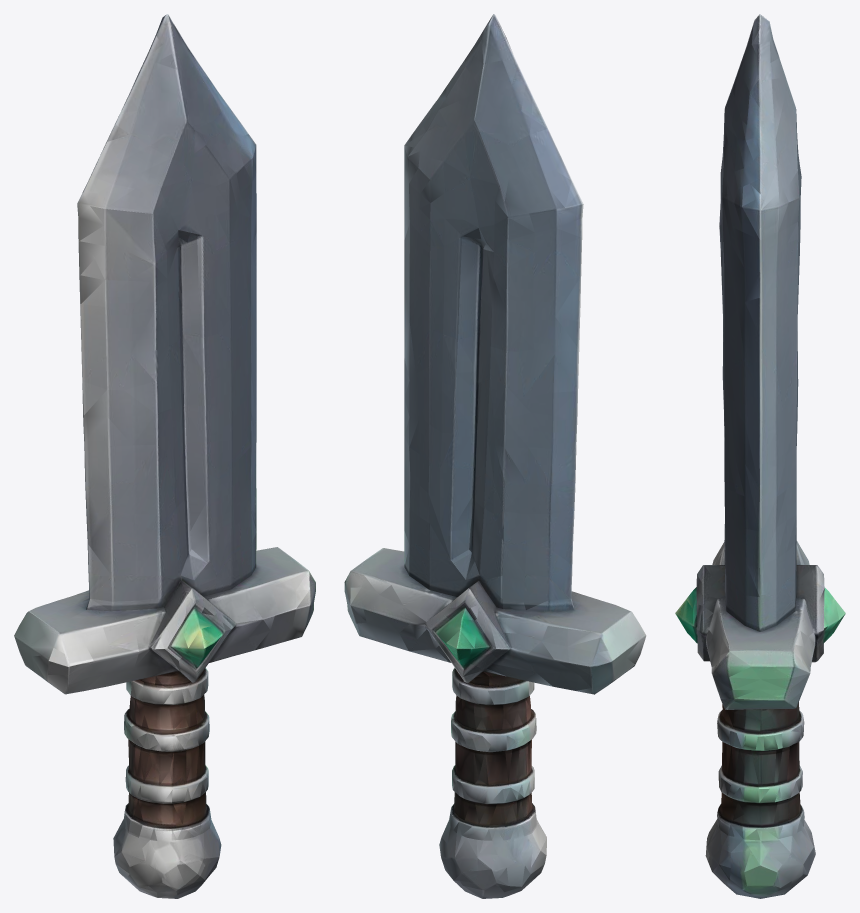
Rendered from w_steel.glb.
3 renders of one model, left to right at view 1: azimuth 30°, elevation 25°; view 2: azimuth 150°, elevation 25°; view 3: azimuth 270°, elevation 25°, orthographic.
Visible parts, largest first — view 1: Weapon; view 2: Weapon; view 3: Weapon.
Part boxes in pixels (x1,y1,x2,y2): Weapon: (14,14,315,898); Weapon: (344,14,646,898); Weapon: (675,14,845,898).
Bounding box in the file's own units: 0.3142 × 0.9803 × 0.1723.
1 material, 1 textured.
